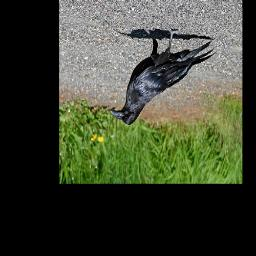Crow: (110, 24, 219, 125)
